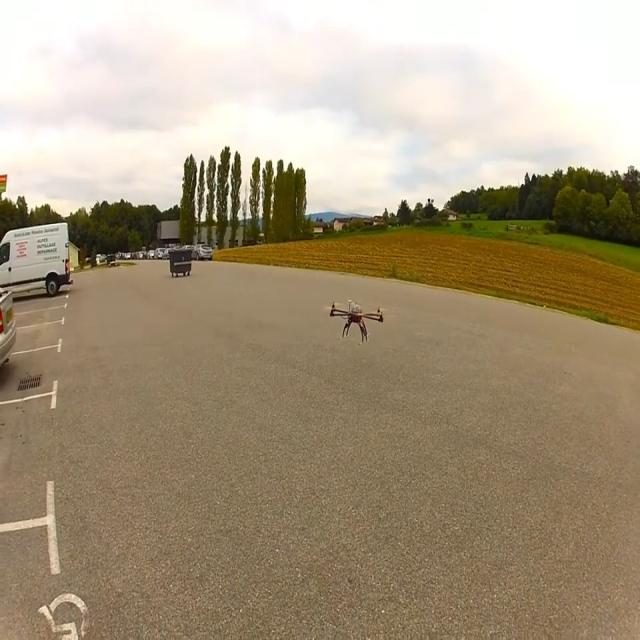drone: (329, 299, 383, 343)
